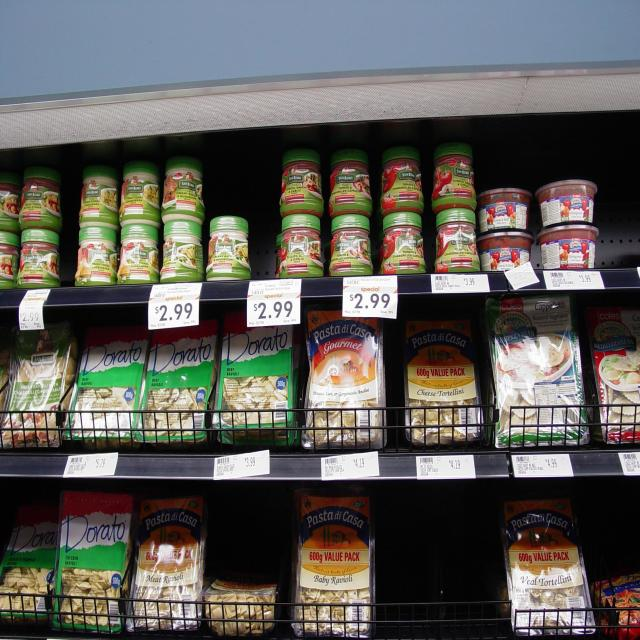empty_space: (388, 514, 490, 625), (612, 163, 640, 263)
